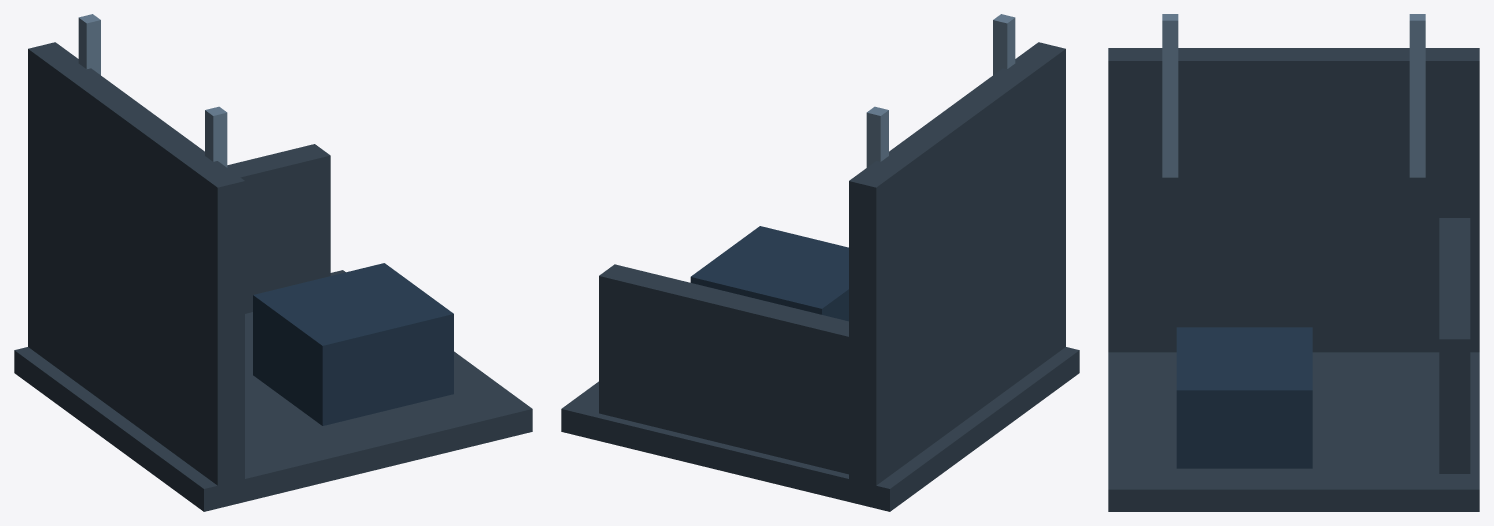
Rendered from ruin_low.glb.
3 views of the same model, side by side, from view 1: azimuth 30°, elevation 25°; view 2: azimuth 150°, elevation 25°; view 3: azimuth 270°, elevation 25° (orthographic). The views are drawn at different scales.
Visible parts, largest first — view 1: Broken wall, Ruined floor, Fallen equipment, Broken wall.001, Exposed beam.001, Exposed beam; view 2: Broken wall, Broken wall.001, Ruined floor, Fallen equipment, Exposed beam, Exposed beam.001; view 3: Broken wall, Ruined floor, Fallen equipment, Broken wall.001, Exposed beam, Exposed beam.001.
Boxes of the visible parts, box(x1,y1,x2,y2) form: Broken wall: box(28, 42, 244, 508); Ruined floor: box(14, 270, 532, 511); Fallen equipment: box(253, 263, 453, 425); Broken wall.001: box(227, 144, 330, 313); Exposed beam.001: box(205, 106, 227, 167); Exposed beam: box(78, 14, 100, 74); Broken wall: box(849, 42, 1065, 508); Broken wall.001: box(599, 264, 848, 474); Ruined floor: box(561, 347, 1079, 511); Fallen equipment: box(690, 226, 848, 321); Exposed beam: box(866, 106, 888, 167); Exposed beam.001: box(993, 14, 1015, 74); Broken wall: box(1108, 48, 1479, 352); Ruined floor: box(1108, 352, 1479, 511); Fallen equipment: box(1176, 327, 1312, 468); Broken wall.001: box(1439, 218, 1470, 473); Exposed beam: box(1409, 14, 1425, 177); Exposed beam.001: box(1162, 14, 1178, 177).
Bounding box in the file's own units: 3 × 3.2 × 3.
